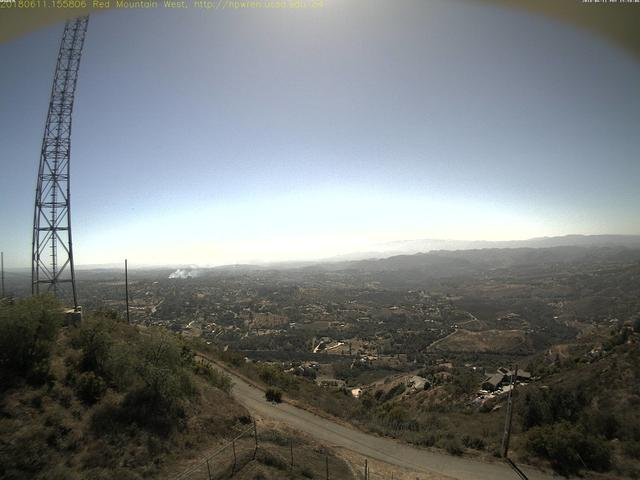smoke: (168, 259, 234, 281)
